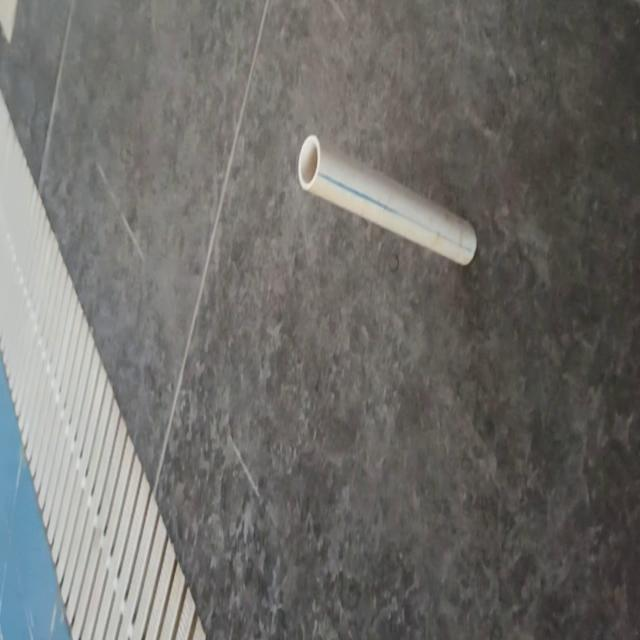Cube: (297, 132, 477, 268)
